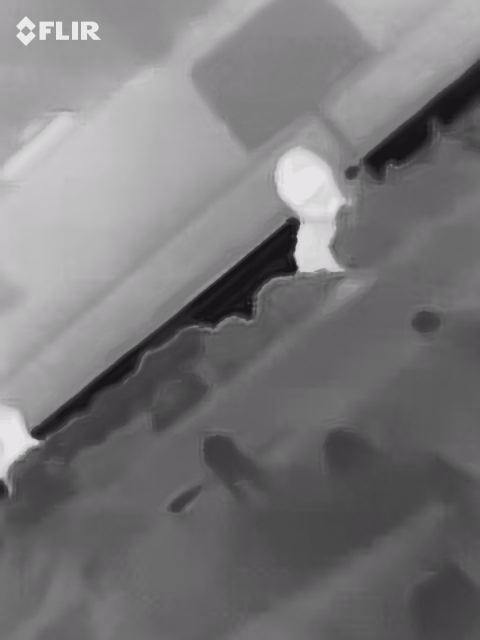head: (272, 148, 339, 221)
